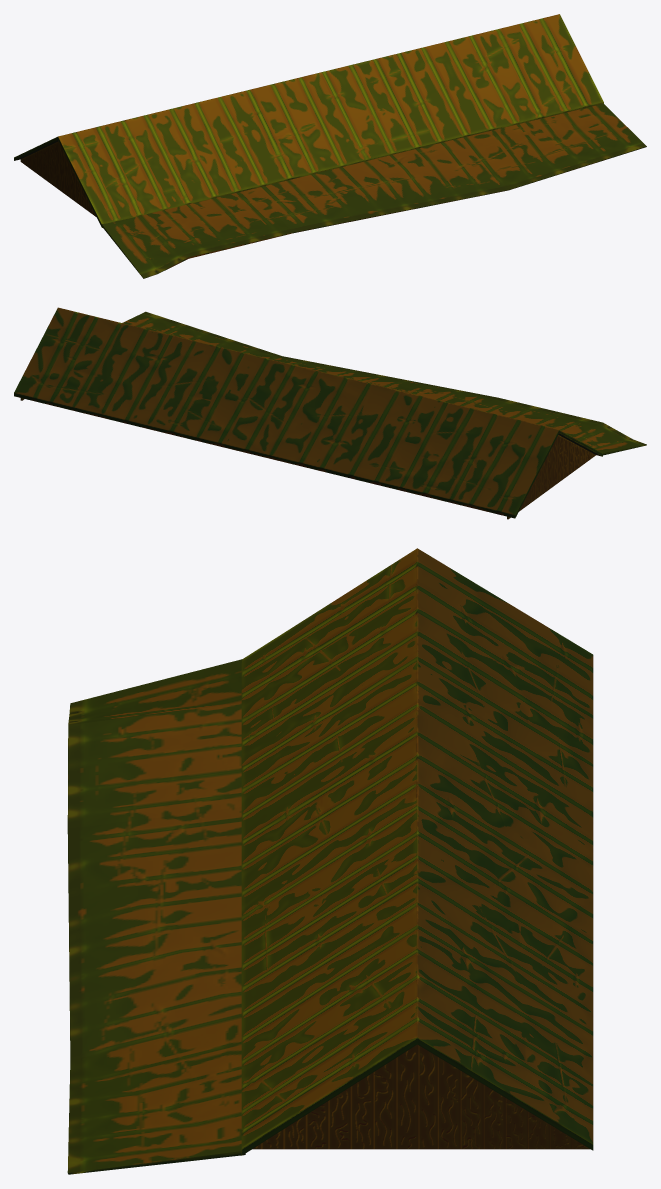
Rendered from MetalRoofSpawn2 1.fbx.
3 renders of one model, top to bottom at view 1: azimuth 30°, elevation 25°; view 2: azimuth 150°, elevation 25°; view 3: azimuth 270°, elevation 25°, orthographic. The views are drawn at different scales.
Visible parts, largest first — view 1: Roof Sides_LOW; view 2: Roof Sides_LOW; view 3: Roof Sides_LOW.
Part boxes in pixels (left/top/right/bottom): Roof Sides_LOW: left=14, top=14, right=646, bottom=278; Roof Sides_LOW: left=14, top=307, right=646, bottom=519; Roof Sides_LOW: left=67, top=548, right=593, bottom=1174.
Size of the model in its own units: 2059 by 311 by 933.
Materials: 3 (3 with a texture image).
